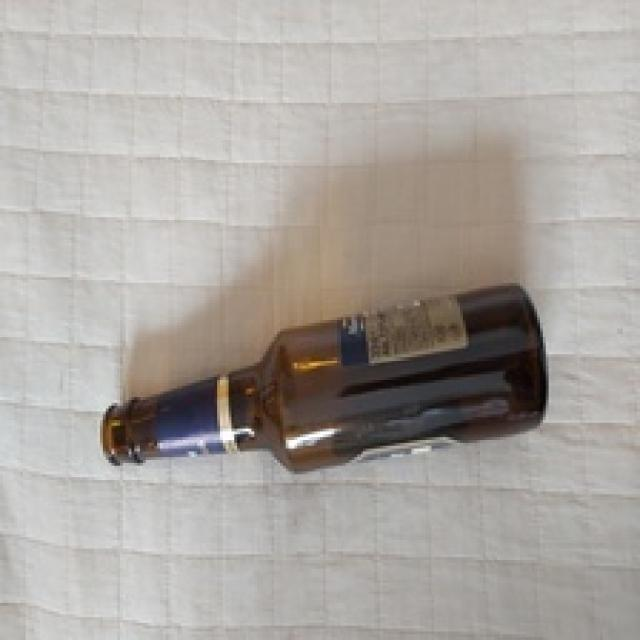Glass: (103, 282, 551, 478)
